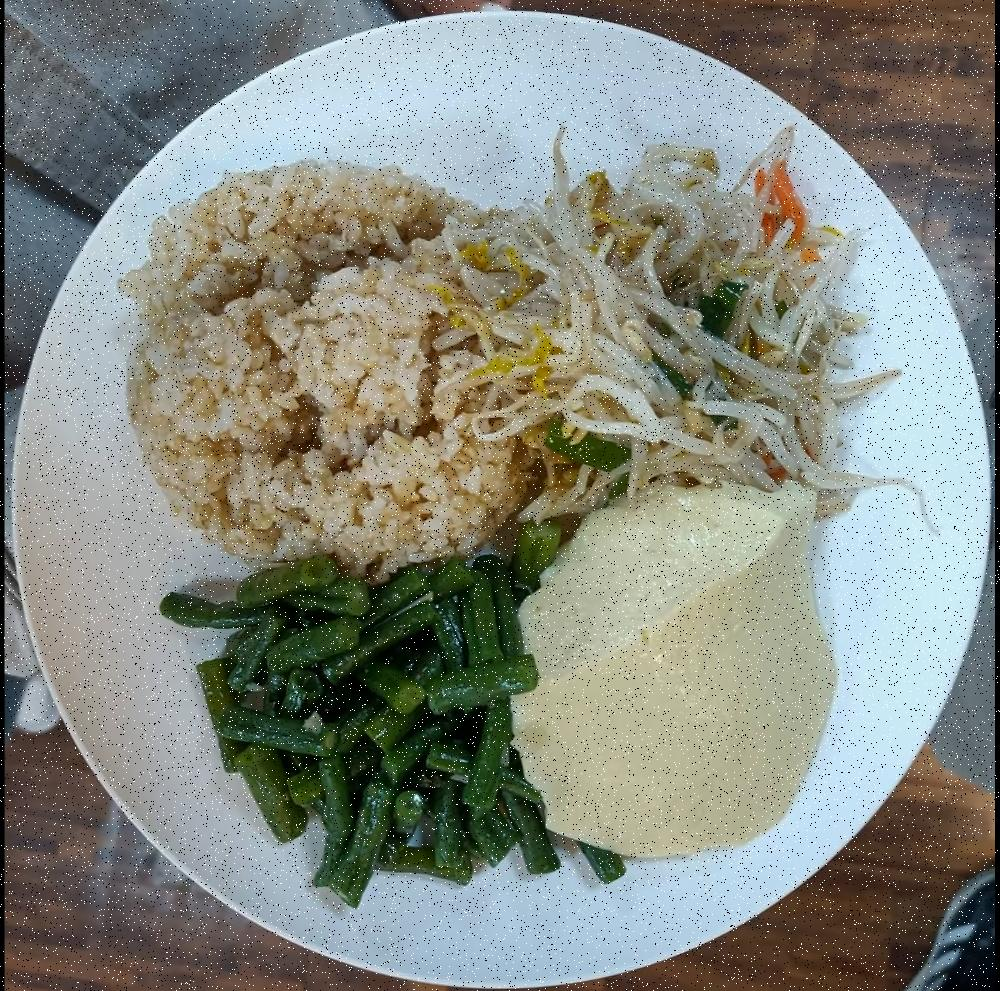brown rice: (116, 155, 526, 571)
plate: (23, 0, 974, 977)
side dish: (459, 147, 864, 493), (158, 551, 550, 885), (519, 495, 829, 853)
